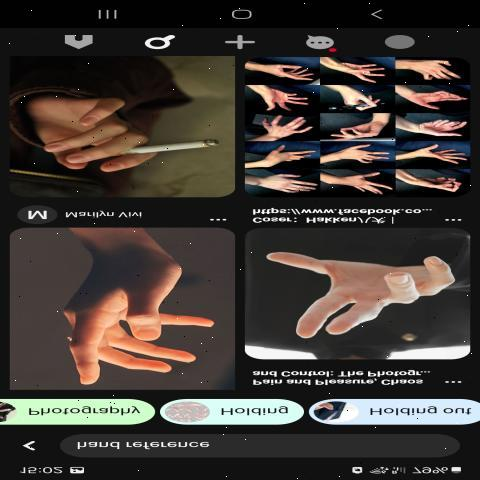Hands: (55, 246, 217, 394), (268, 241, 469, 346), (31, 85, 176, 182), (324, 112, 400, 144), (246, 166, 322, 196), (402, 79, 470, 111), (325, 166, 397, 194), (323, 54, 395, 82), (250, 143, 323, 169), (408, 115, 468, 145), (261, 114, 321, 144), (320, 143, 393, 167), (257, 58, 318, 86), (404, 143, 473, 163), (259, 88, 323, 109)
